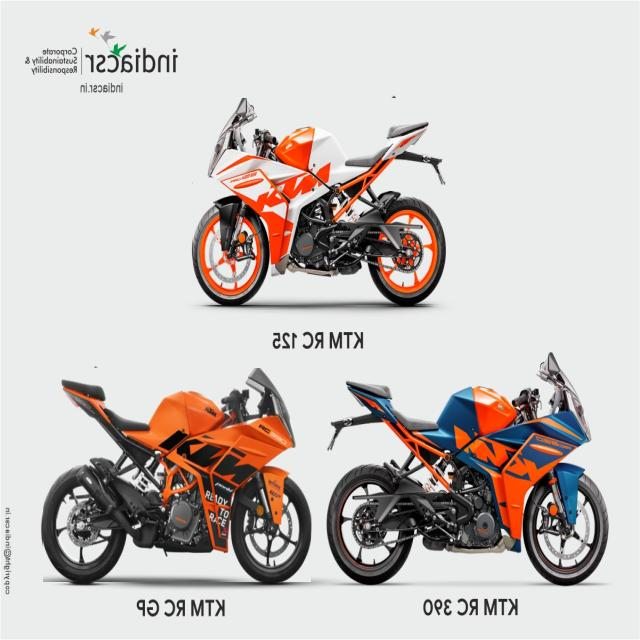motorcycle: (328, 353, 608, 584), (43, 369, 310, 582), (193, 98, 445, 305)
